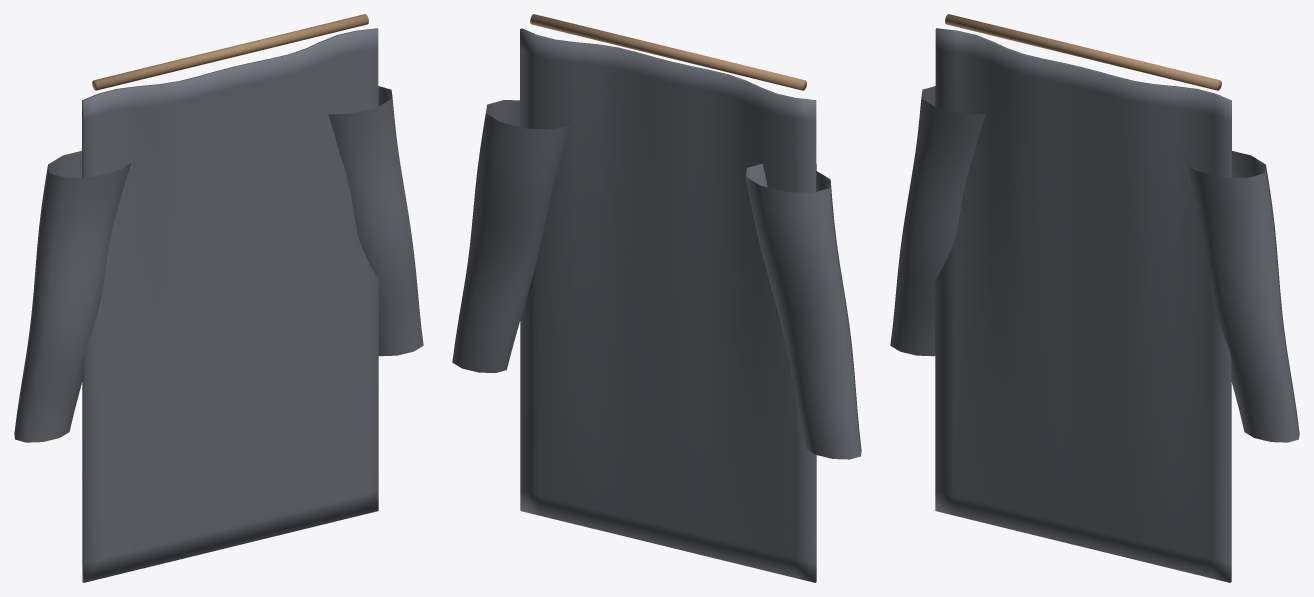
File: ceket.glb
3 views of the same model, side by side, from view 1: azimuth 30°, elevation 25°; view 2: azimuth 150°, elevation 25°; view 3: azimuth 330°, elevation 25° (orthographic).
Visible parts, largest first — view 1: on, kol_-1, kol_1, cubuk; view 2: on, kol_-1, kol_1, cubuk; view 3: on, kol_1, kol_-1, cubuk.
Boxes of the visible parts, x1,y1,x2,y2 form: on: [82, 28, 378, 582]; kol_-1: [14, 151, 131, 442]; kol_1: [328, 86, 423, 356]; cubuk: [92, 14, 368, 90]; on: [520, 28, 816, 582]; kol_-1: [745, 163, 861, 459]; kol_1: [452, 100, 570, 372]; cubuk: [530, 14, 806, 90]; on: [935, 28, 1231, 582]; kol_1: [1182, 151, 1299, 442]; kol_-1: [890, 86, 985, 356]; cubuk: [945, 14, 1221, 90].
Size of the model in its own units: 0.691 by 0.8076 by 0.09.
